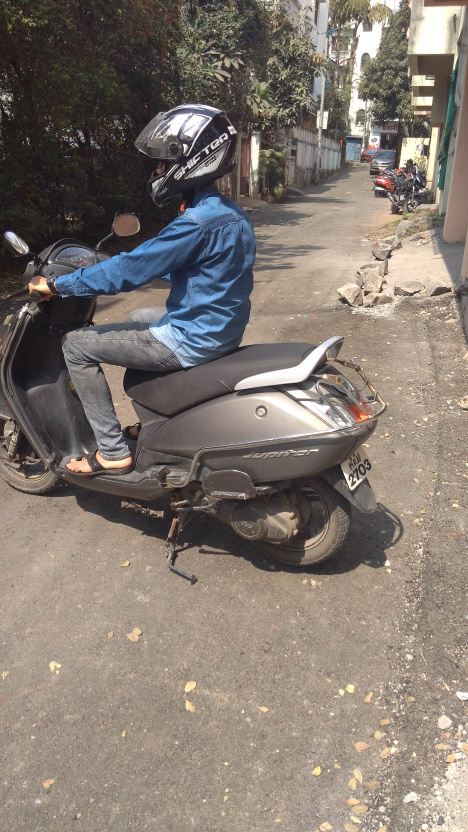helmet: (115, 96, 329, 296)
